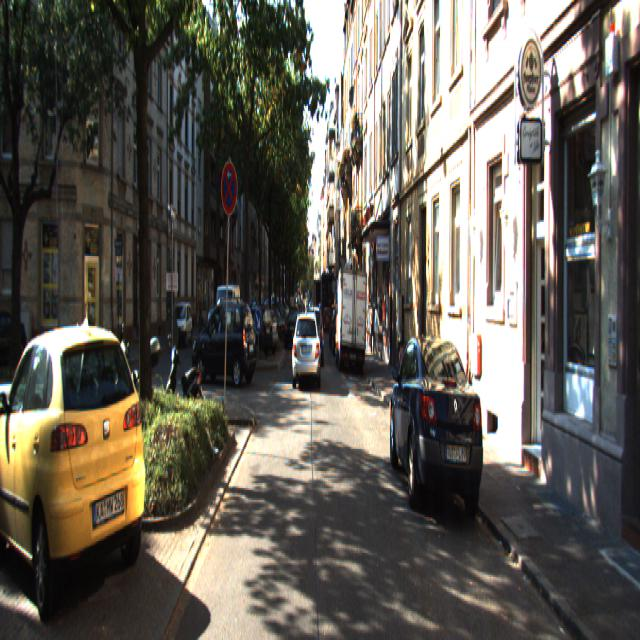Car: (0, 315, 154, 636), (386, 324, 492, 529), (111, 323, 166, 438), (190, 297, 258, 389), (164, 326, 206, 439), (334, 264, 367, 368), (292, 313, 321, 392), (232, 304, 274, 358), (304, 305, 324, 367)
